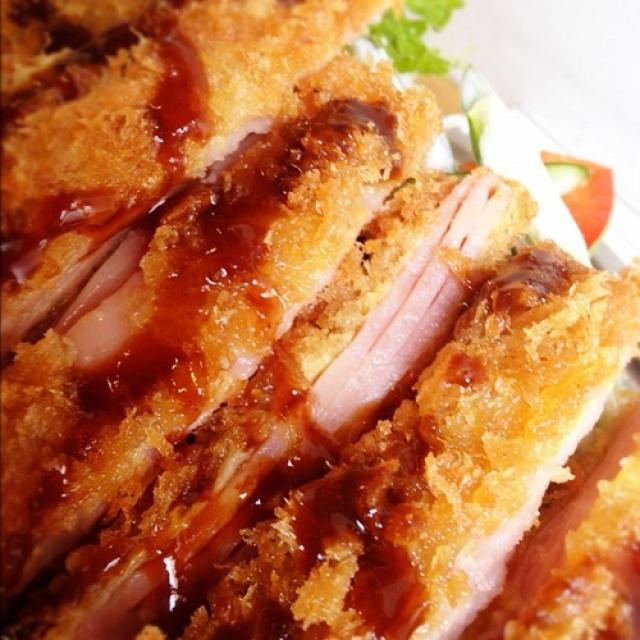炸货点心: (1, 5, 635, 631)
